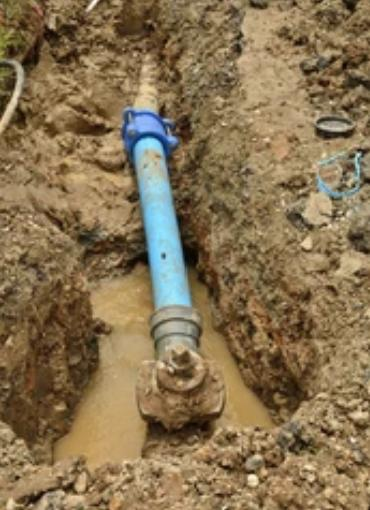water accumulation: (48, 248, 277, 470)
